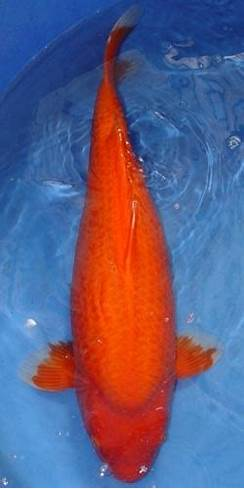red: (18, 6, 221, 480)
